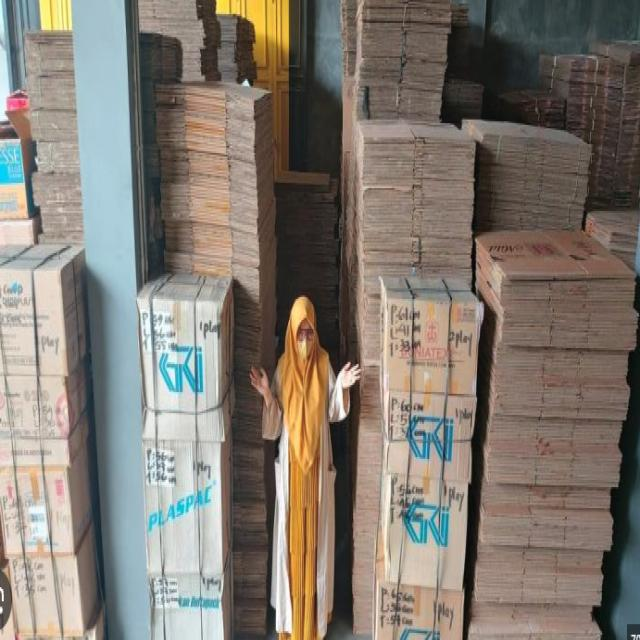Kardus: (476, 235, 640, 640), (368, 287, 482, 632), (1, 247, 98, 640), (136, 280, 236, 634), (157, 83, 274, 277), (359, 123, 473, 275)
